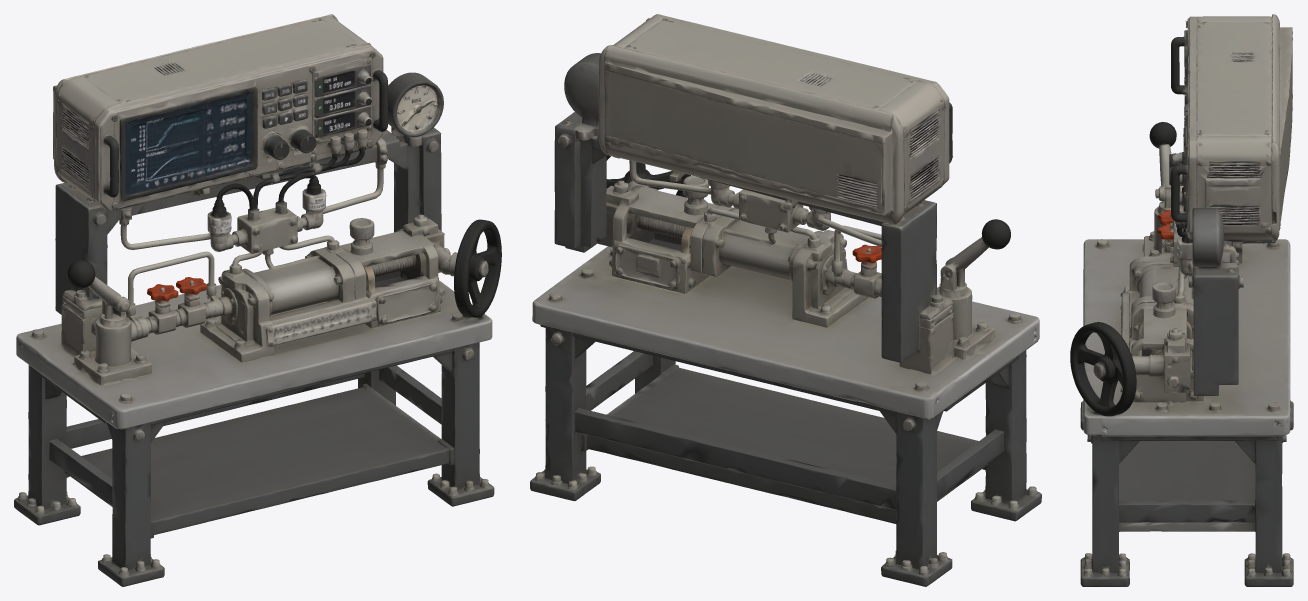
The model's file is SM_Testing_Machine.fbx.
The picture shows the model from 3 angles, left to right: view 1: azimuth 30°, elevation 25°; view 2: azimuth 150°, elevation 25°; view 3: azimuth 270°, elevation 25°; orthographic projection. The views are drawn at different scales.
Parts seen in each view (by area): view 1: SM_Testing_Machine; view 2: SM_Testing_Machine; view 3: SM_Testing_Machine.
Part boxes in pixels (x1,y1,x2,y2): SM_Testing_Machine: (14, 14, 501, 586); SM_Testing_Machine: (530, 14, 1041, 586); SM_Testing_Machine: (1070, 14, 1293, 586).
Bounding box in the file's own units: 1.22 × 1.21 × 0.5882.
1 material, 1 textured.
